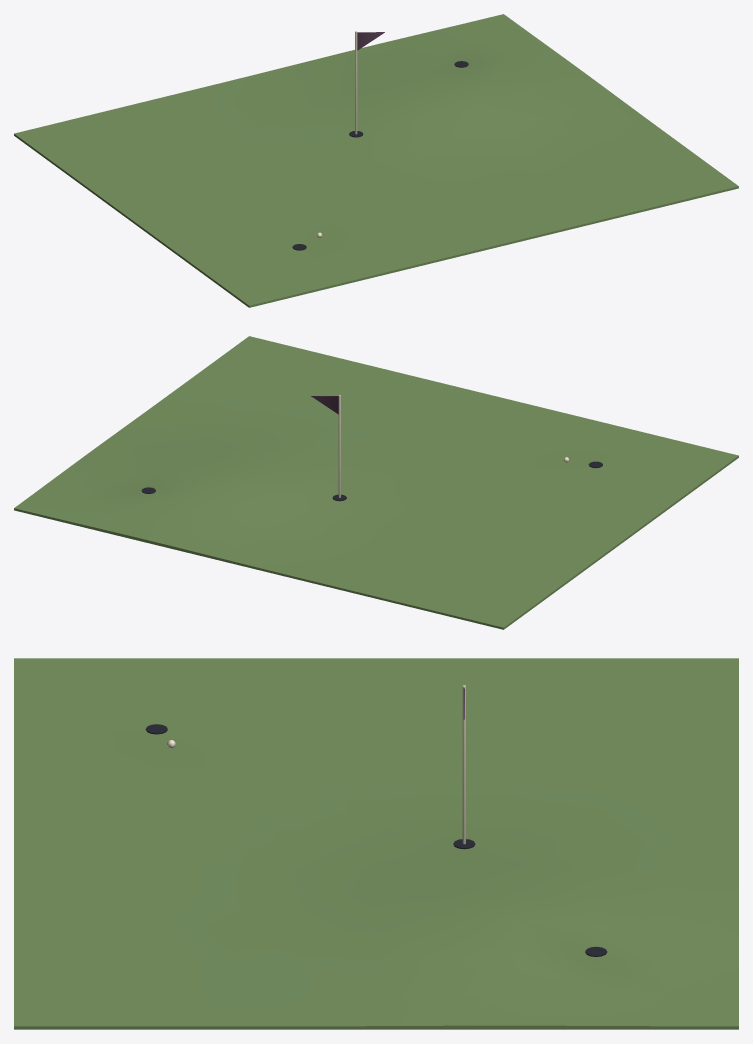
File: green_putting.glb
3 renders of one model, top to bottom at view 1: azimuth 30°, elevation 25°; view 2: azimuth 150°, elevation 25°; view 3: azimuth 270°, elevation 25°, orthographic. The views are drawn at different scales.
Visible parts, largest first — view 1: green_putting; view 2: green_putting; view 3: green_putting.
Part boxes in pixels (x1,y1,x2,y2): green_putting: (14,14,738,307); green_putting: (14,336,738,629); green_putting: (14,658,738,1029).
Size of the model in its own units: 5.95 by 1.25 by 4.95.
